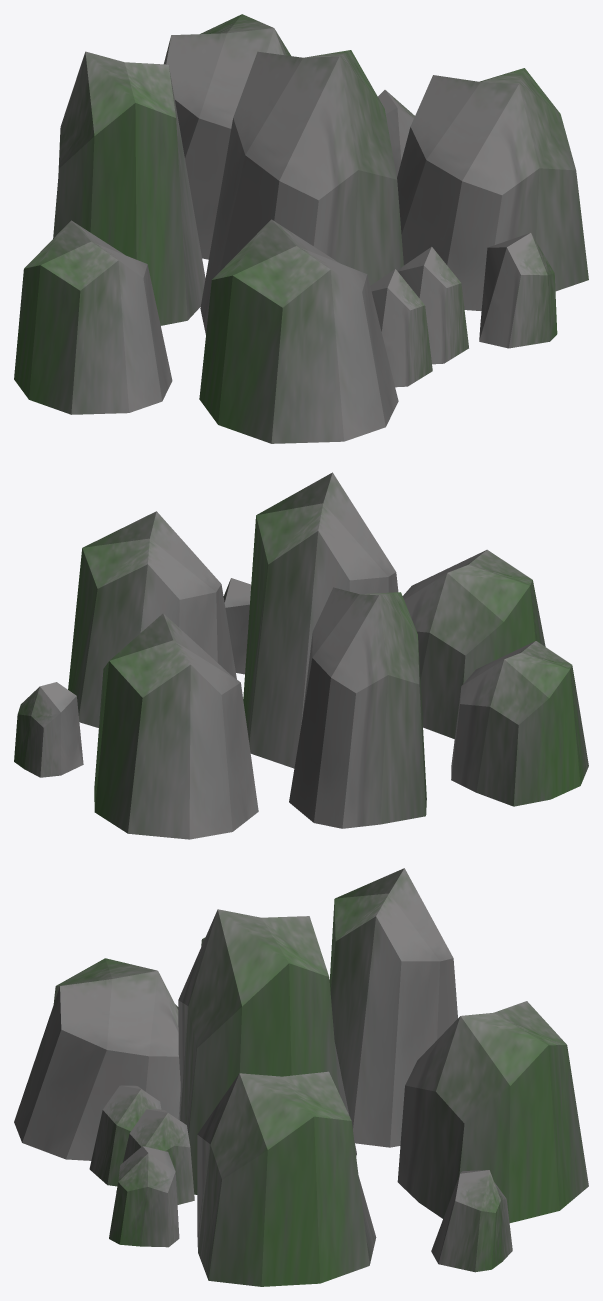
The model's file is mossed-stone-63.glb.
3 views of the same model, one above another, from view 1: azimuth 30°, elevation 25°; view 2: azimuth 150°, elevation 25°; view 3: azimuth 270°, elevation 25° (orthographic). The views are drawn at different scales.
Visible parts, largest first — view 1: mossed_stone_63; view 2: mossed_stone_63; view 3: mossed_stone_63.
Part boxes in pixels (x1,y1,x2,y2): mossed_stone_63: (14,14,588,443); mossed_stone_63: (14,472,588,839); mossed_stone_63: (14,868,588,1286).
Bounding box in the file's own units: 12.17 × 5.85 × 11.7.
1 material, 1 textured.
